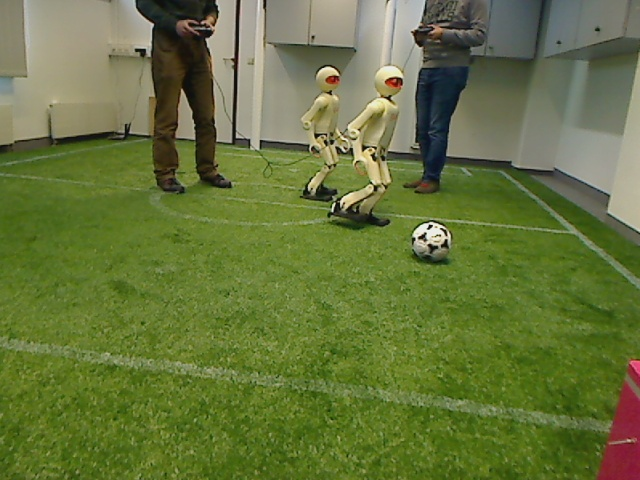ball: (407, 220, 456, 267)
robot: (334, 59, 401, 229), (298, 64, 345, 206)
